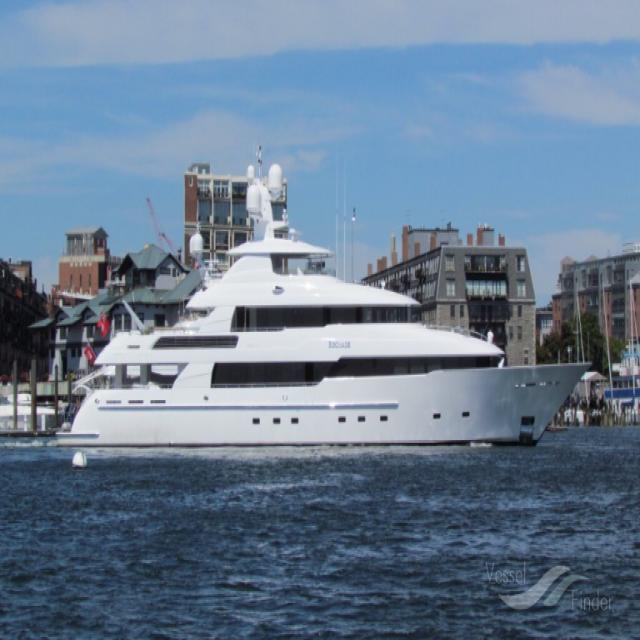Yacht: (66, 159, 585, 443)
